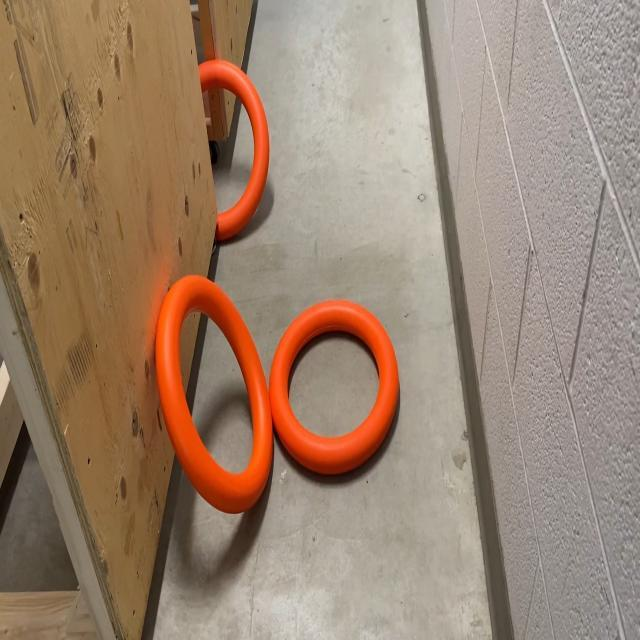note: (155, 273, 274, 514), (269, 294, 402, 476), (198, 58, 270, 240)
